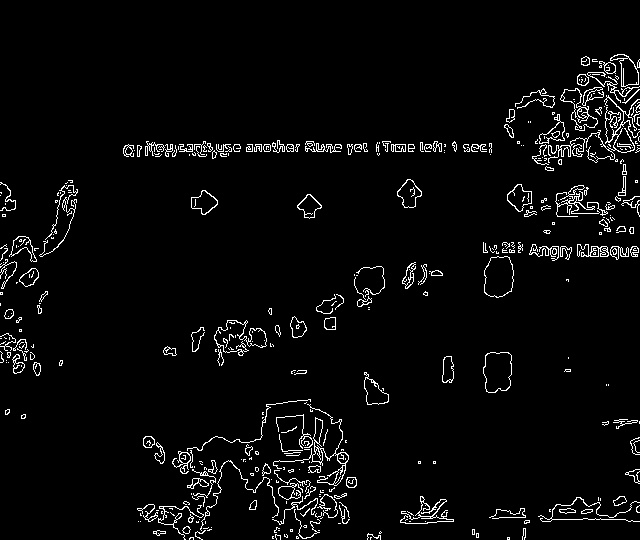left: (499, 178, 542, 218)
right: (184, 184, 226, 223)
up: (289, 187, 333, 228), (390, 174, 427, 215)
